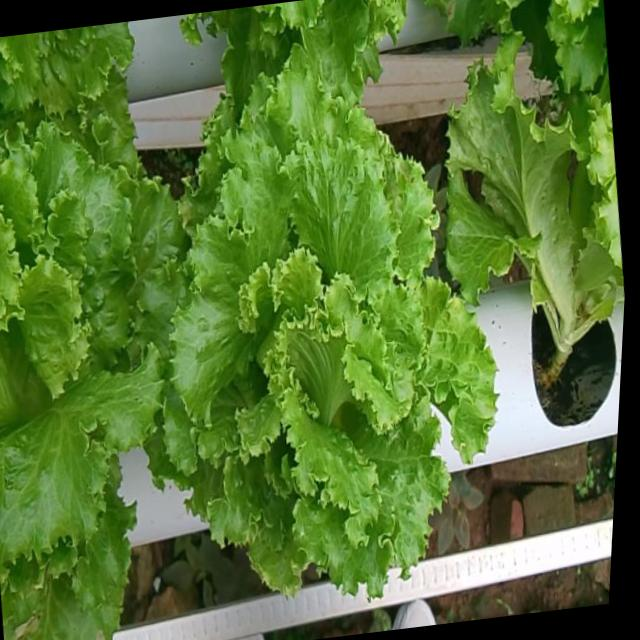Mature: (156, 82, 490, 612), (0, 133, 178, 580)
